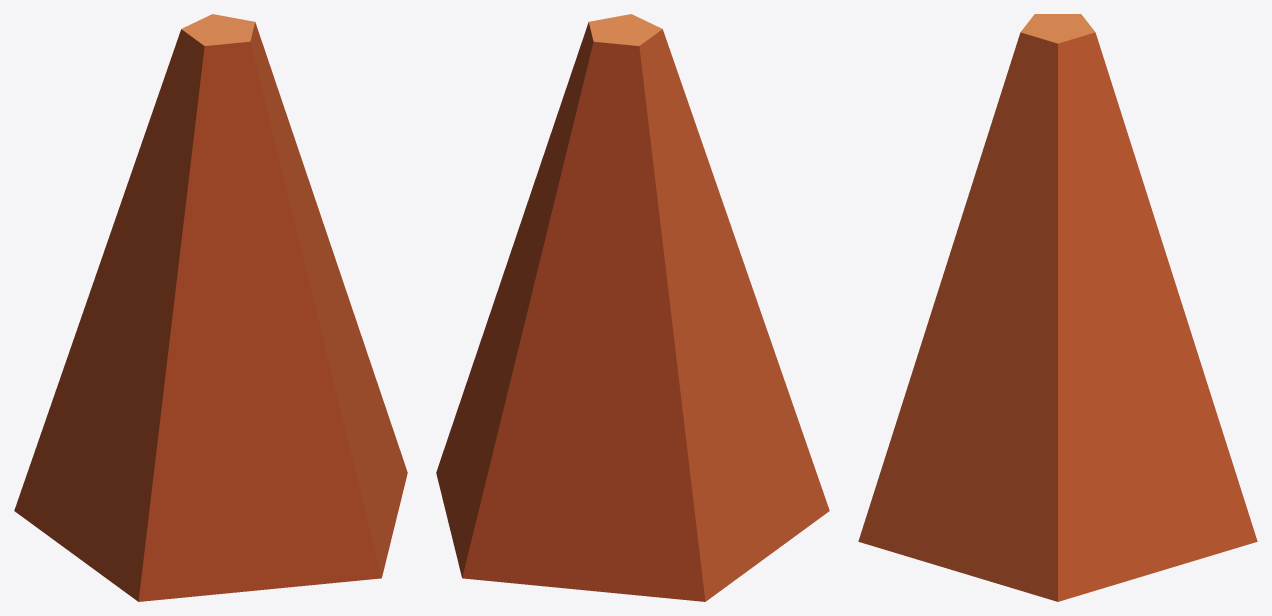
File: SM_ROCK_S_05.fbx
3 views of the same model, side by side, from view 1: azimuth 30°, elevation 25°; view 2: azimuth 150°, elevation 25°; view 3: azimuth 270°, elevation 25° (orthographic).
Parts seen in each view (by area): view 1: ROCK_S_05; view 2: ROCK_S_05; view 3: ROCK_S_05.
Boxes of the visible parts, x1,y1,x2,y2 form: ROCK_S_05: [14, 14, 407, 601]; ROCK_S_05: [436, 14, 829, 601]; ROCK_S_05: [858, 14, 1257, 601].
Bounding box in the file's own units: 0.637 × 0.6698 × 0.9016.
